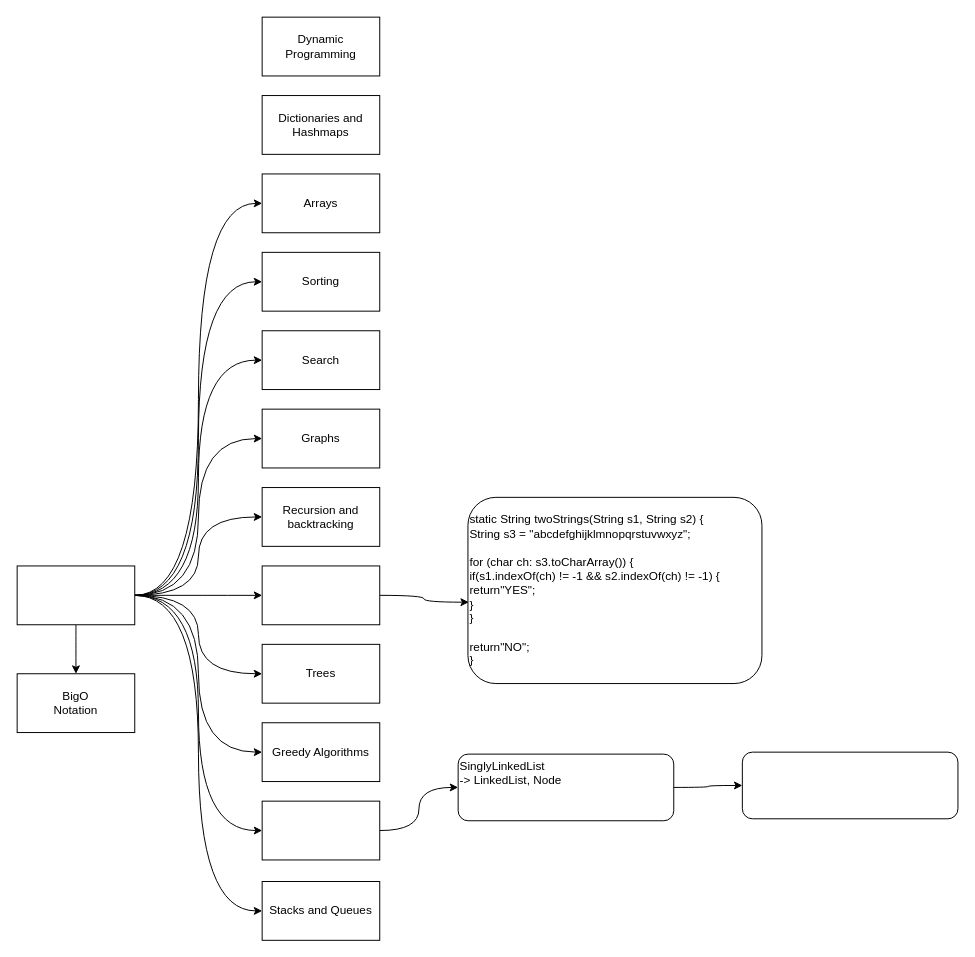
This 975x957 diagram has some shape labels left out. The shapes that lost their labels are listed below. From the top down, each one's centre as x and y in pixels, then its label:
At (75,595): "Algorithm".
At (320,595): "String Manipulation".
At (849,785): "Insert Node".
At (320,830): "Linked List".
